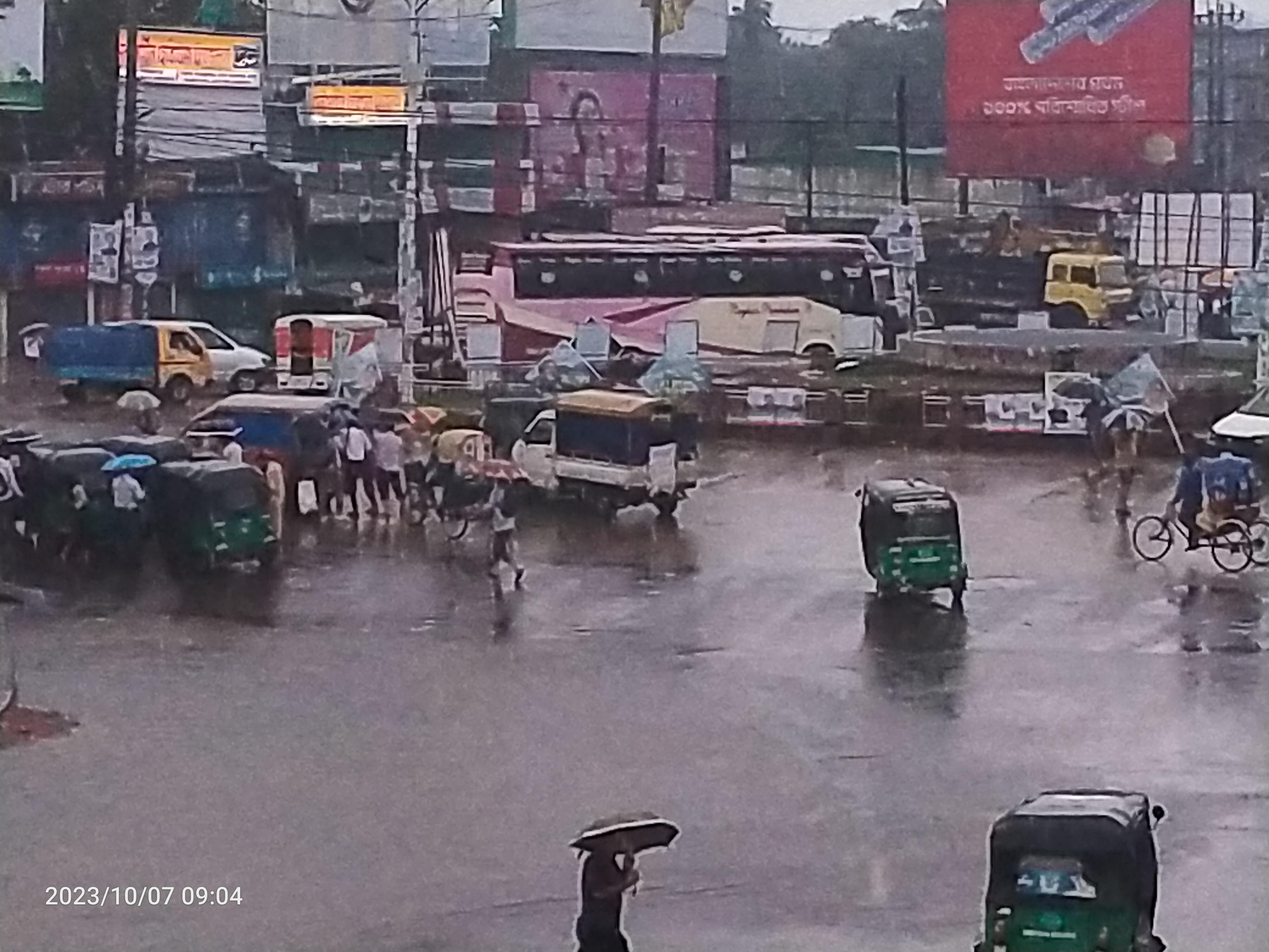Bus: (420, 190, 922, 403)
Car: (504, 380, 704, 535), (1110, 417, 1269, 601), (29, 301, 231, 411), (242, 278, 406, 403), (397, 415, 508, 556), (184, 303, 276, 397)
Truck: (920, 217, 1150, 353)
